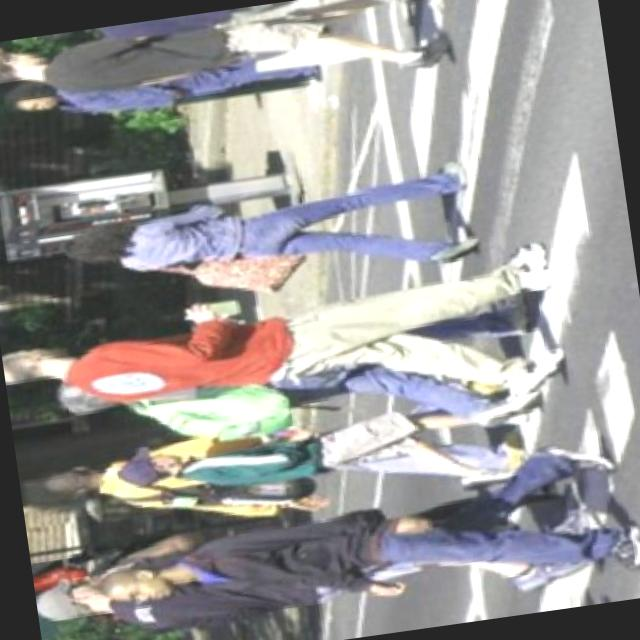Person: (0, 230, 591, 451), (91, 434, 640, 640), (48, 142, 498, 316), (100, 388, 530, 534), (0, 0, 471, 129), (8, 0, 499, 65)
